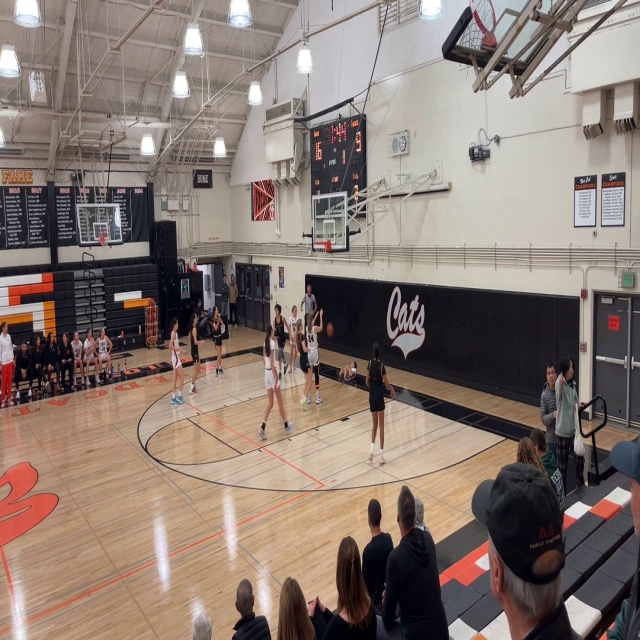Basketball: (326, 323, 334, 337)
